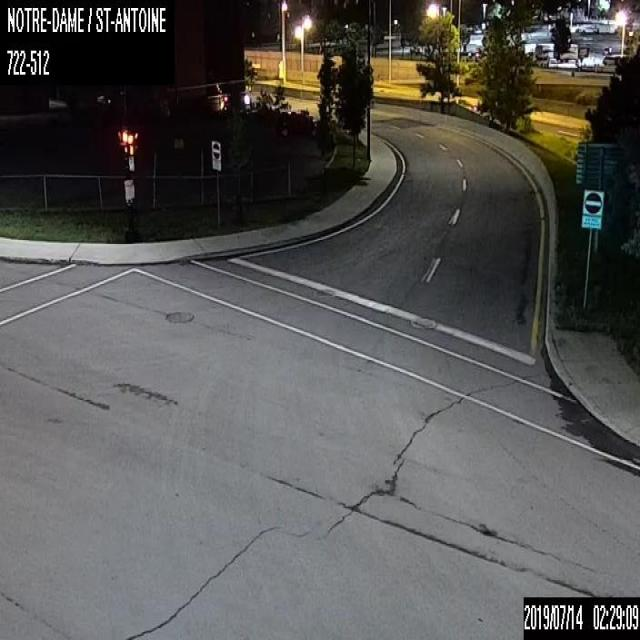vehicle: (276, 112, 320, 136)
